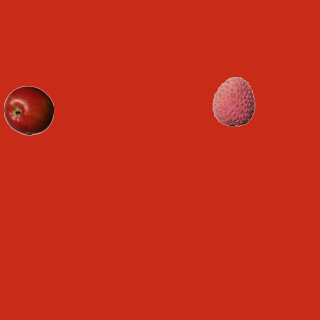Apple Braeburn: (3, 85, 53, 135)
Lychee: (208, 76, 258, 126)
